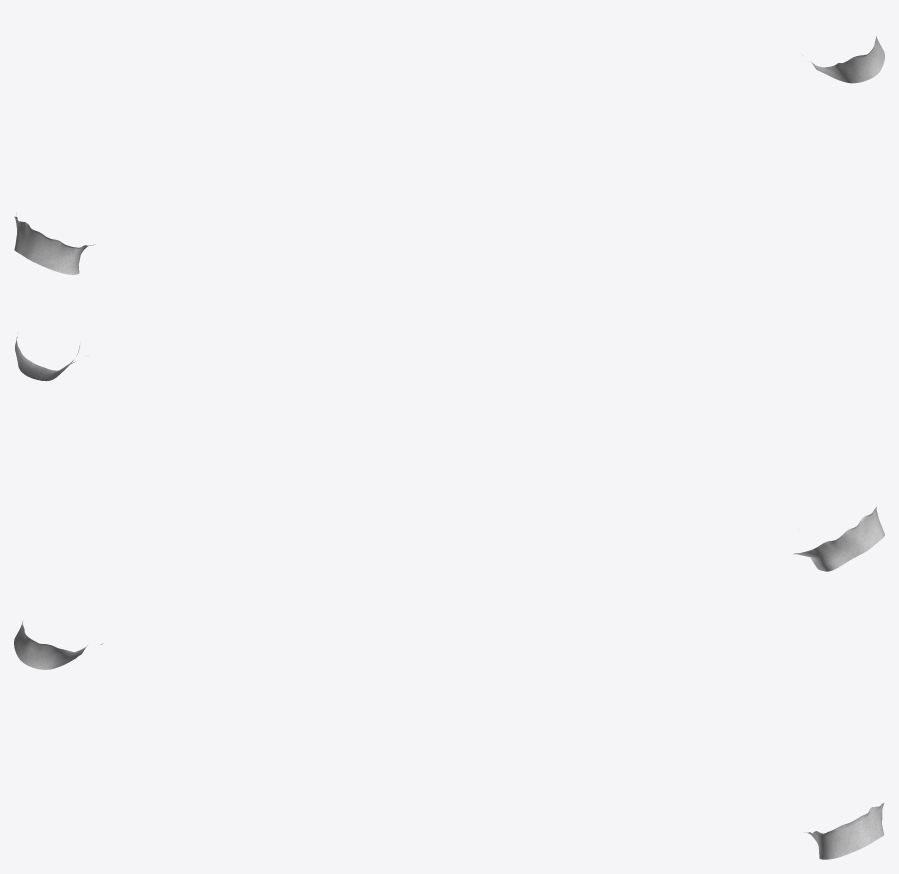
File: Jac_Rope_Sleeves_V2.glb
3 views of the same model, one above another, from view 1: azimuth 30°, elevation 25°; view 2: azimuth 150°, elevation 25°; view 3: azimuth 330°, elevation 25° (orthographic).
Visible parts, largest first — view 1: Jac_Rope_Sleeves_V21; view 2: Jac_Rope_Sleeves_V21; view 3: Jac_Rope_Sleeves_V21.
Part boxes in pixels (box(x1,y1,x2,y2)): Jac_Rope_Sleeves_V21: box(14, 36, 884, 274); Jac_Rope_Sleeves_V21: box(15, 336, 884, 571); Jac_Rope_Sleeves_V21: box(14, 621, 884, 859).
Size of the model in its own units: 1.71 by 0.0955 by 0.1957.
1 material, 1 textured.
